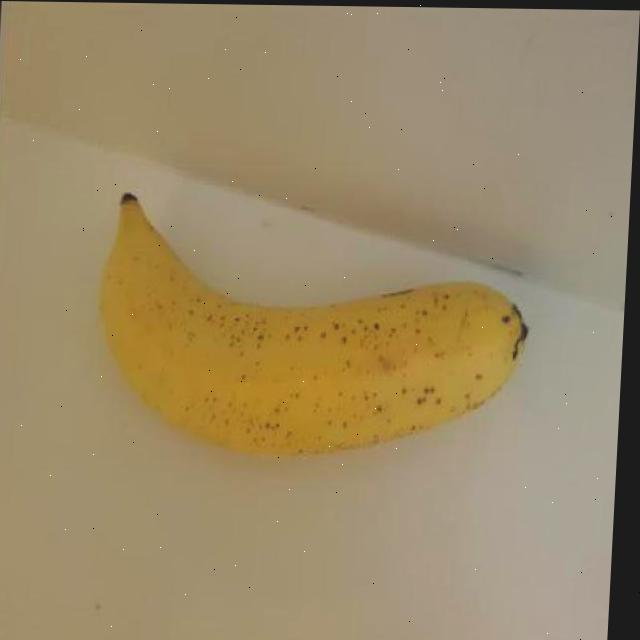banana: (89, 188, 530, 456)
